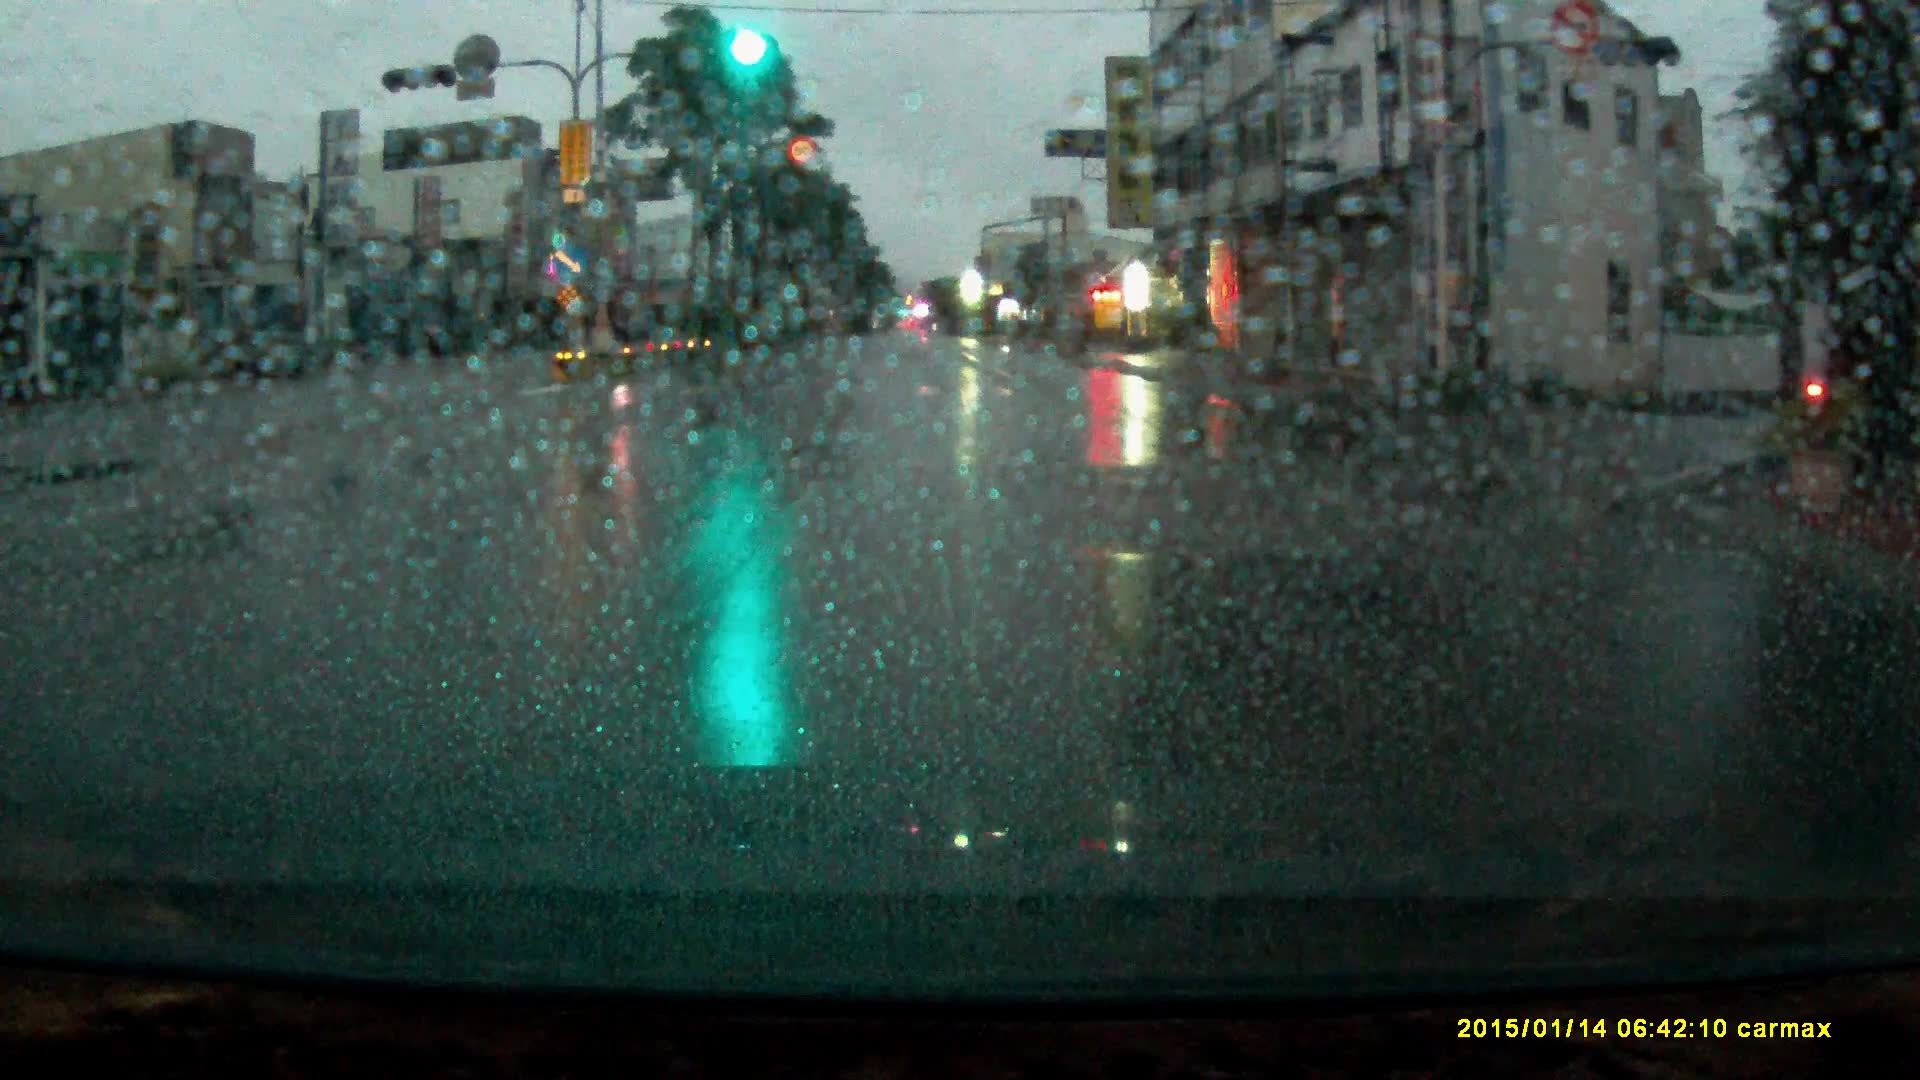rider: (1799, 316, 1865, 425)
